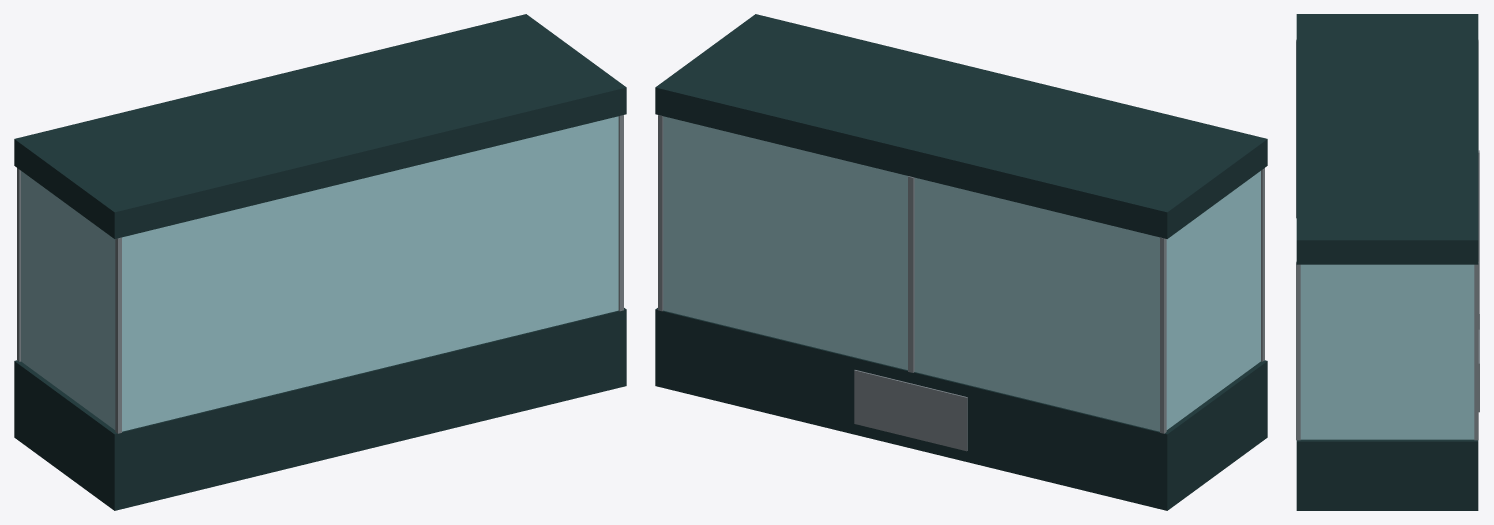
Rendered from tank_M.fbx.
The picture shows the model from 3 angles, left to right: view 1: azimuth 30°, elevation 25°; view 2: azimuth 150°, elevation 25°; view 3: azimuth 270°, elevation 25°; orthographic projection. The views are drawn at different scales.
Visible parts, largest first — view 1: tank_M; view 2: tank_M; view 3: tank_M.
Part boxes in pixels (x1,y1,x2,y2): tank_M: [14, 14, 626, 510]; tank_M: [655, 14, 1267, 510]; tank_M: [1296, 14, 1479, 510].
Bounding box in the file's own units: 7 × 3.9 × 2.4.
